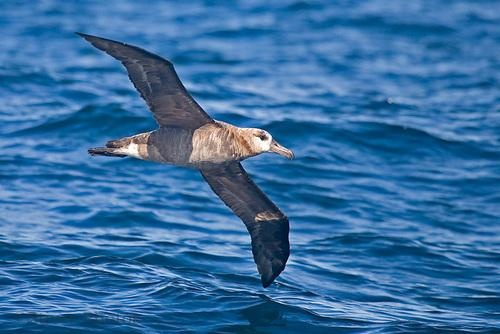bird: (69, 30, 291, 286)
